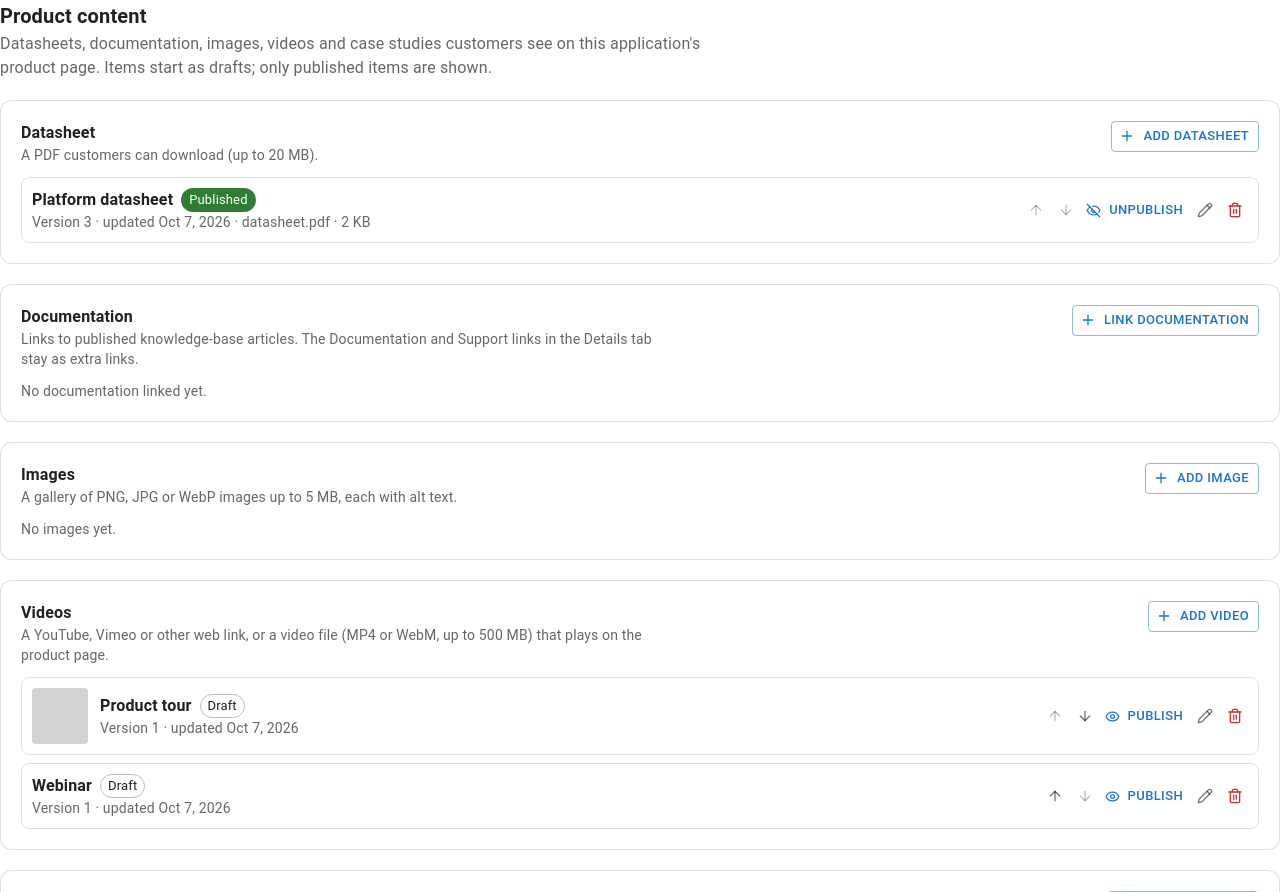
Test: Product content — admin Content tab (REQ-CAT-004) › adds a video: validates the link, then saves it as a draft
Click the button "Add video".
click(1203, 616)  # box [1148,601,1259,632]
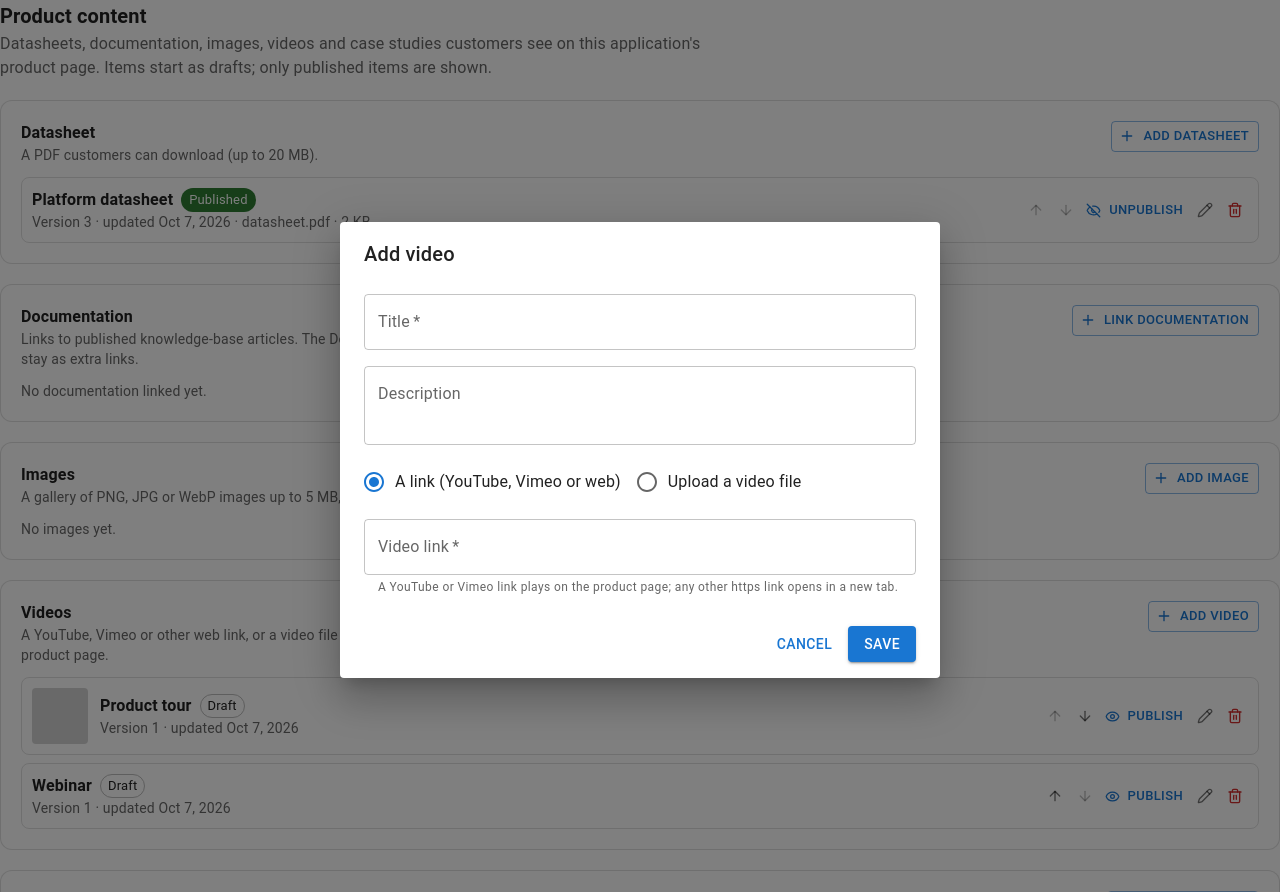
Type "Tour" into the field labelled "Title *".
click(640, 322); type("Tour")  # box [364,294,916,350]
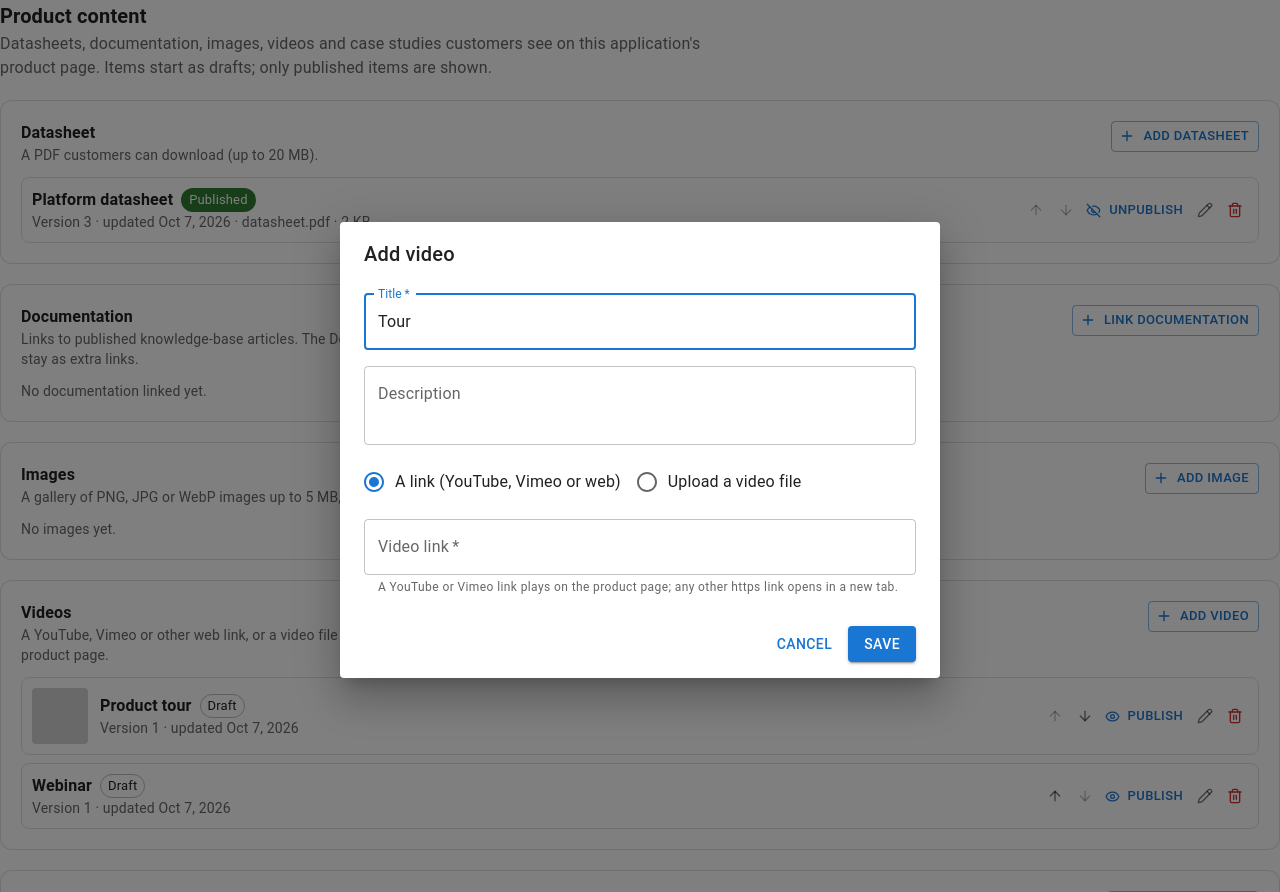
Type "http://insecure.example.com/x" into the field labelled "Video link *".
click(640, 547); type("http://insecure.example.com/x")  # box [364,519,916,575]
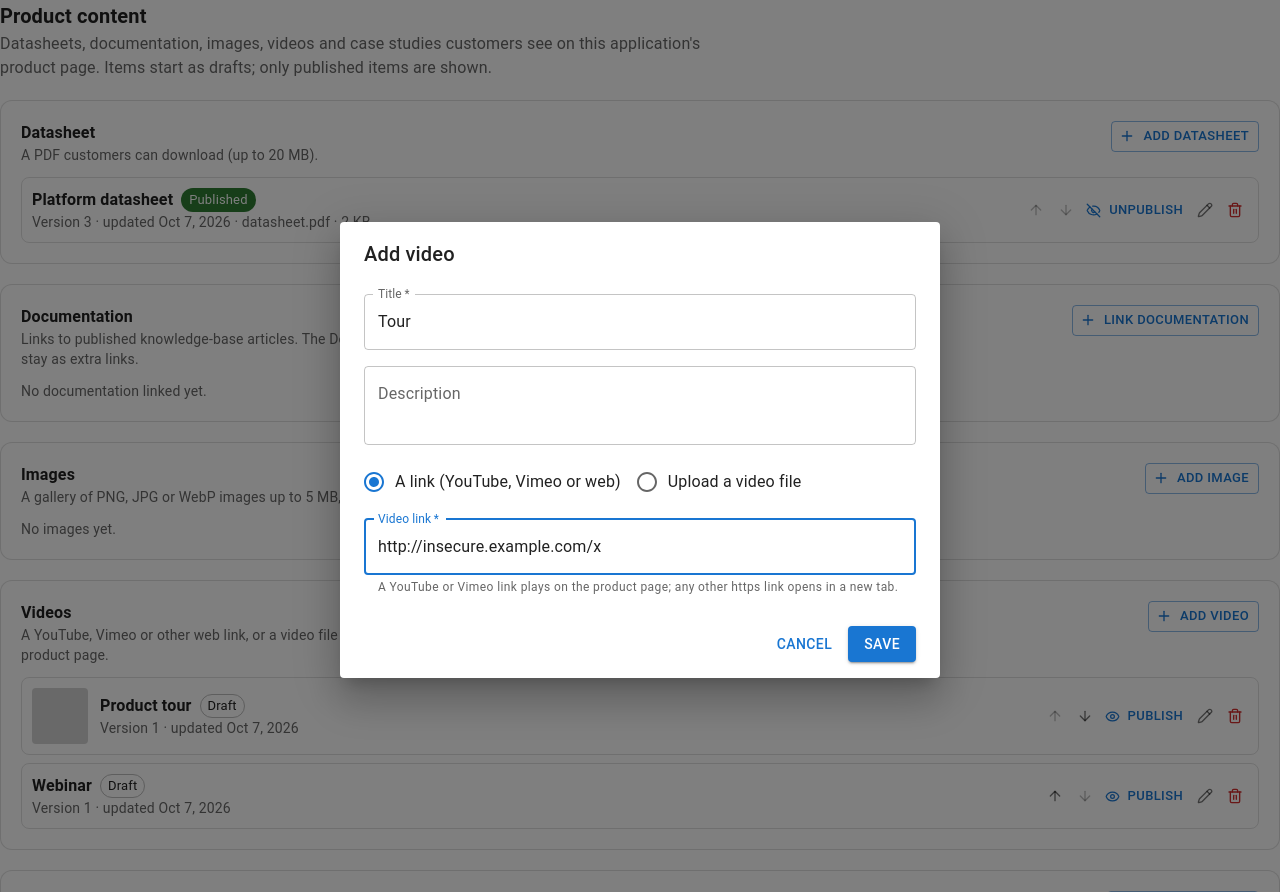
Click the button "Save".
click(882, 644)  # box [848,626,916,662]
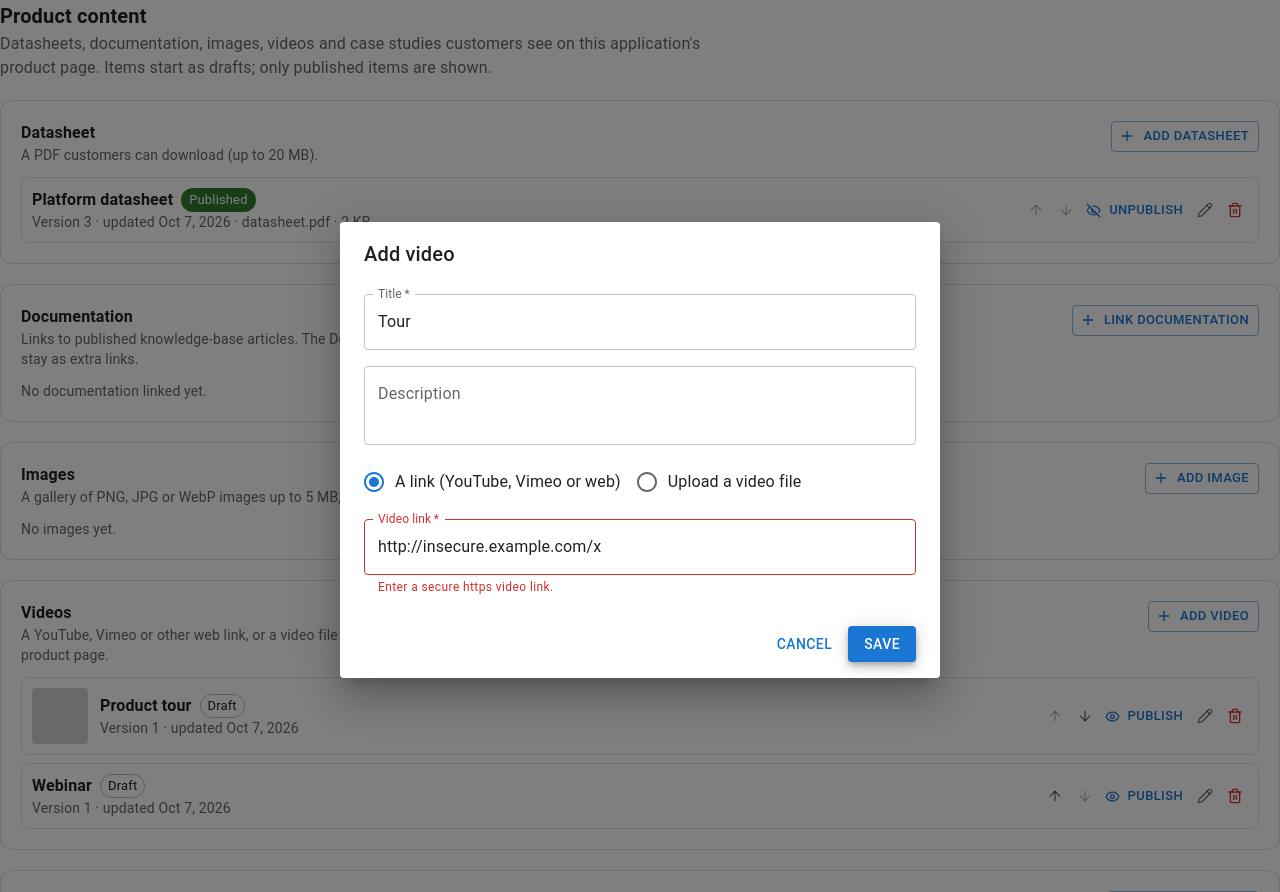
Result: the text "Enter a secure https video link." is shown at [378,580,554,594]
Replace the text in the field labelled "Video link *" with "https://youtu.be/dQw4w9WgXcQ" at [640, 547], box [364,519,916,575]
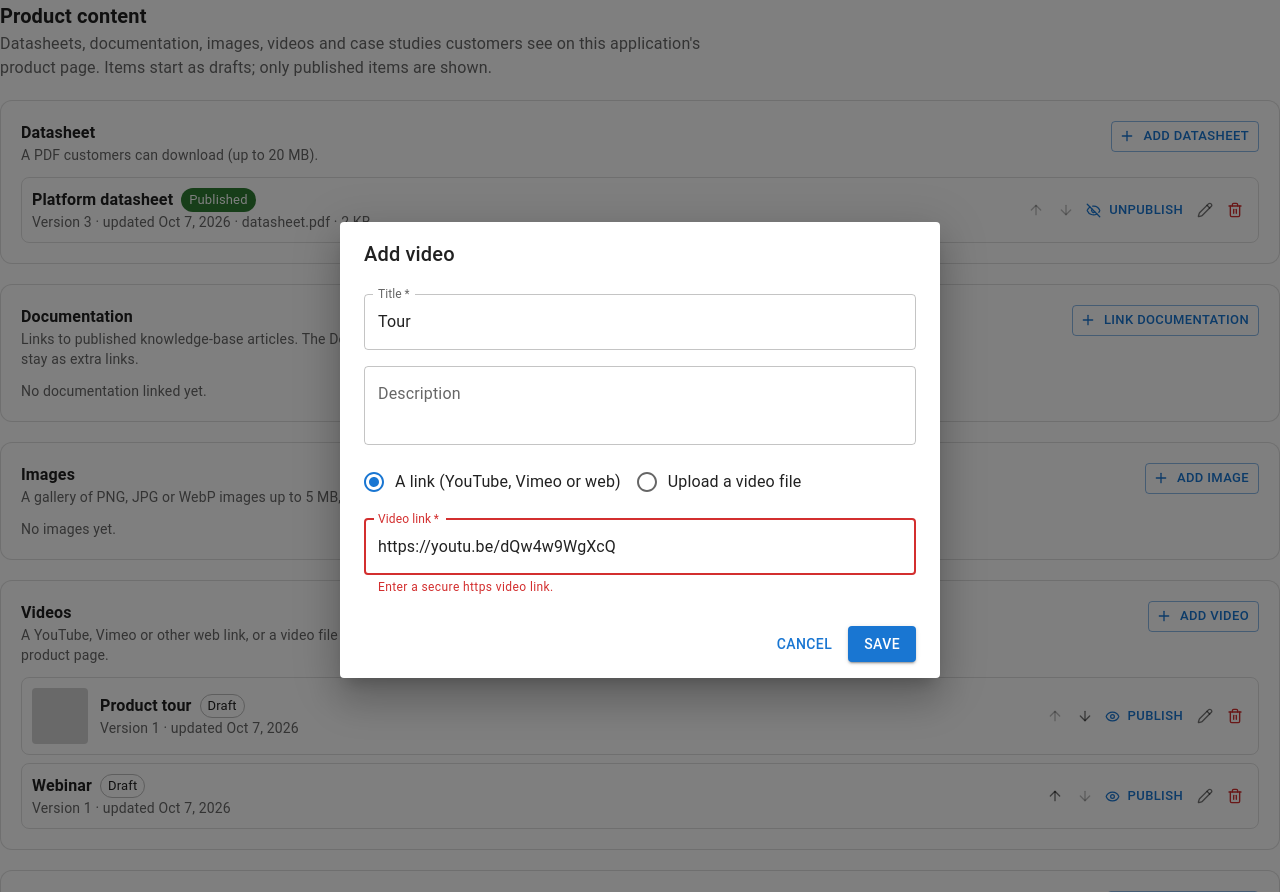
Click the button "Save".
click(882, 644)  # box [848,626,916,662]
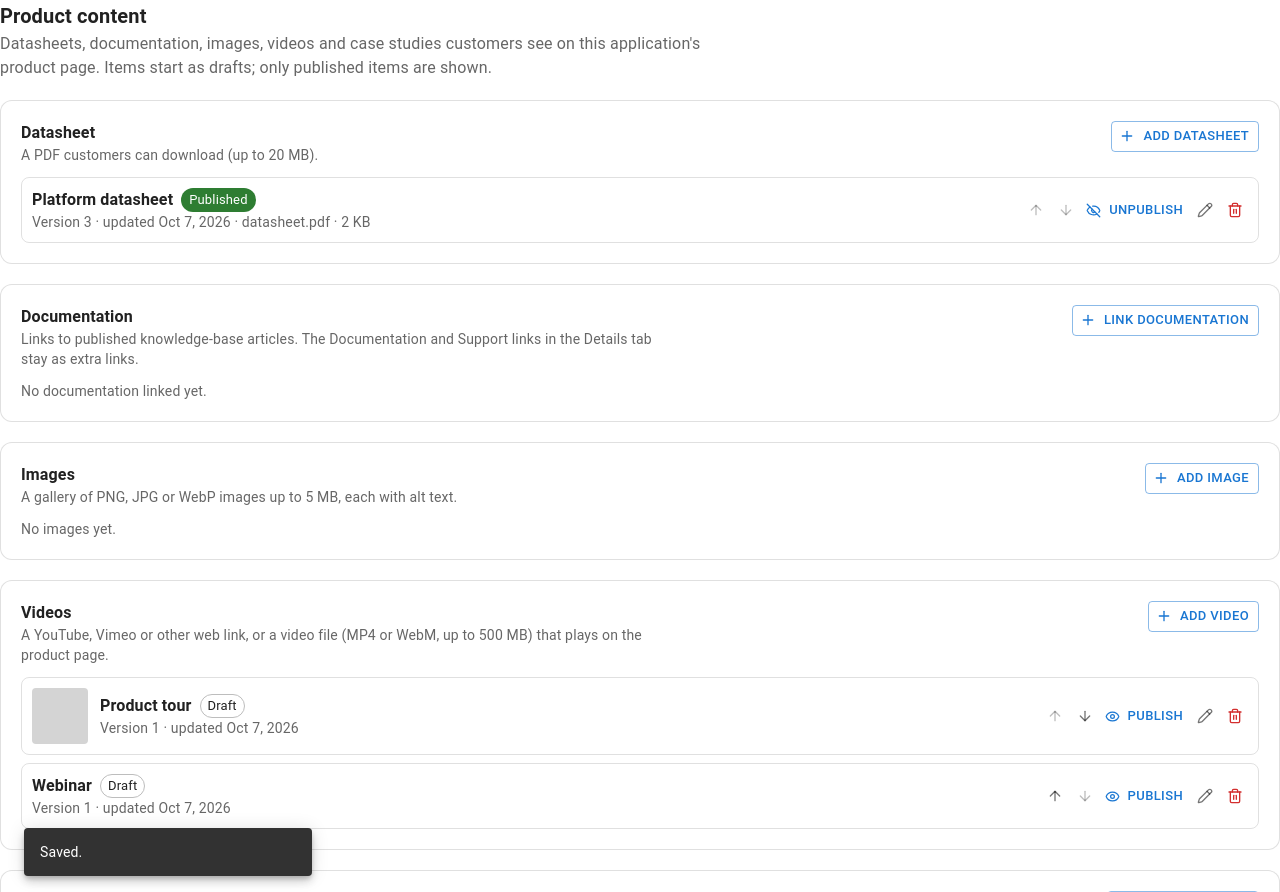
Result: the text "Saved." is shown at [40,844,82,860]
